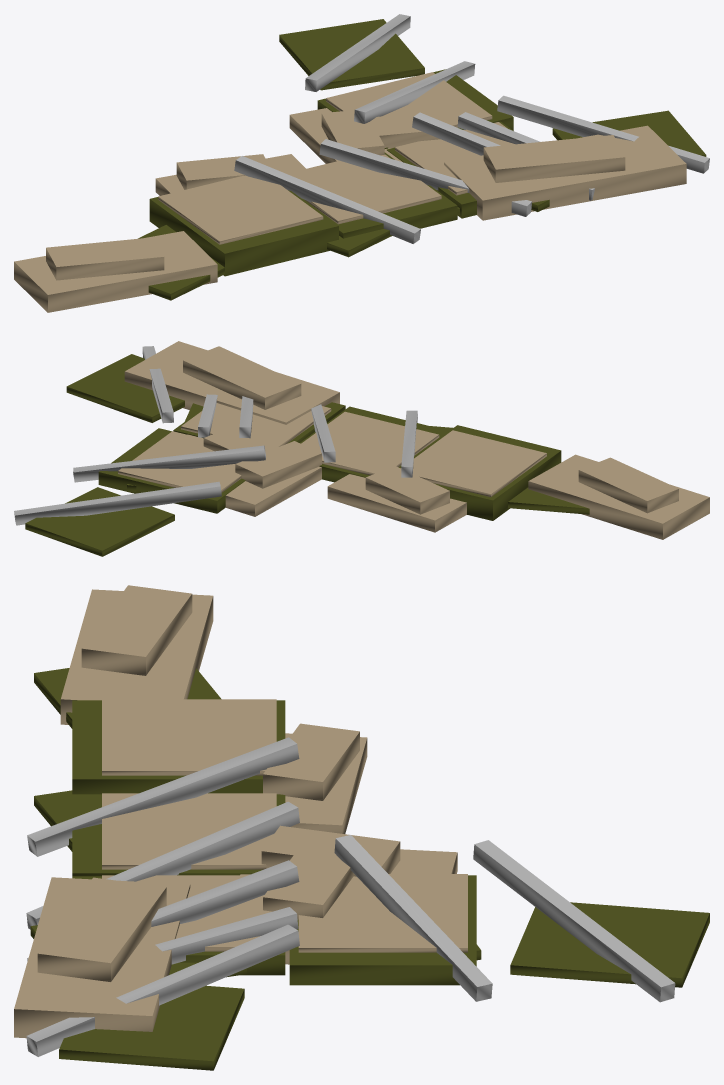
The model's file is SM_HescoRemateEspejo_v1_Geotextil_e3_Brecha_LOD1.fbx.
3 renders of one model, top to bottom at view 1: azimuth 30°, elevation 25°; view 2: azimuth 150°, elevation 25°; view 3: azimuth 270°, elevation 25°, orthographic. The views are drawn at different scales.
Parts seen in each view (by area): view 1: SM_hesco_piezas_v27_LOD1; view 2: SM_hesco_piezas_v27_LOD1; view 3: SM_hesco_piezas_v27_LOD1.
Part boxes in pixels (x1,y1,x2,y2): SM_hesco_piezas_v27_LOD1: (14,14,709,312); SM_hesco_piezas_v27_LOD1: (14,341,709,556); SM_hesco_piezas_v27_LOD1: (14,585,709,1070).
Bounding box in the file's own units: 6.23 × 0.351 × 3.99.
